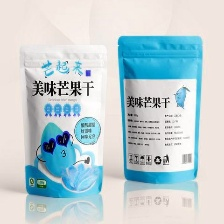snack: (11, 37, 114, 205), (110, 28, 207, 190)
